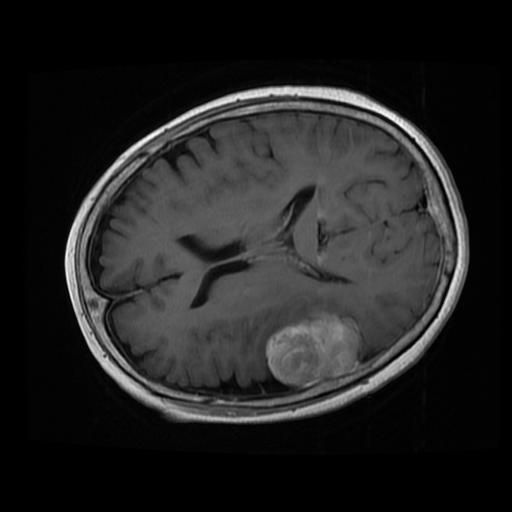meningioma: (265, 316, 358, 385)
